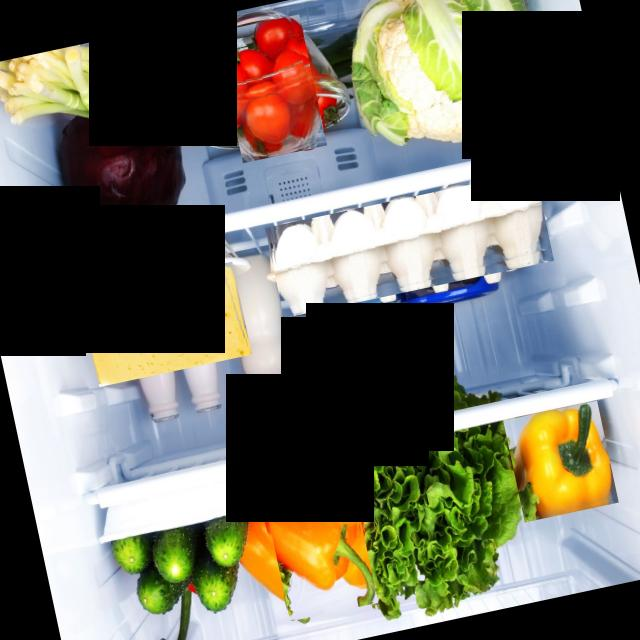cheese: (80, 261, 252, 386)
eggs: (264, 170, 554, 318)
pepper: (260, 459, 378, 621), (503, 400, 618, 522)
tomatoes: (215, 14, 326, 162)
